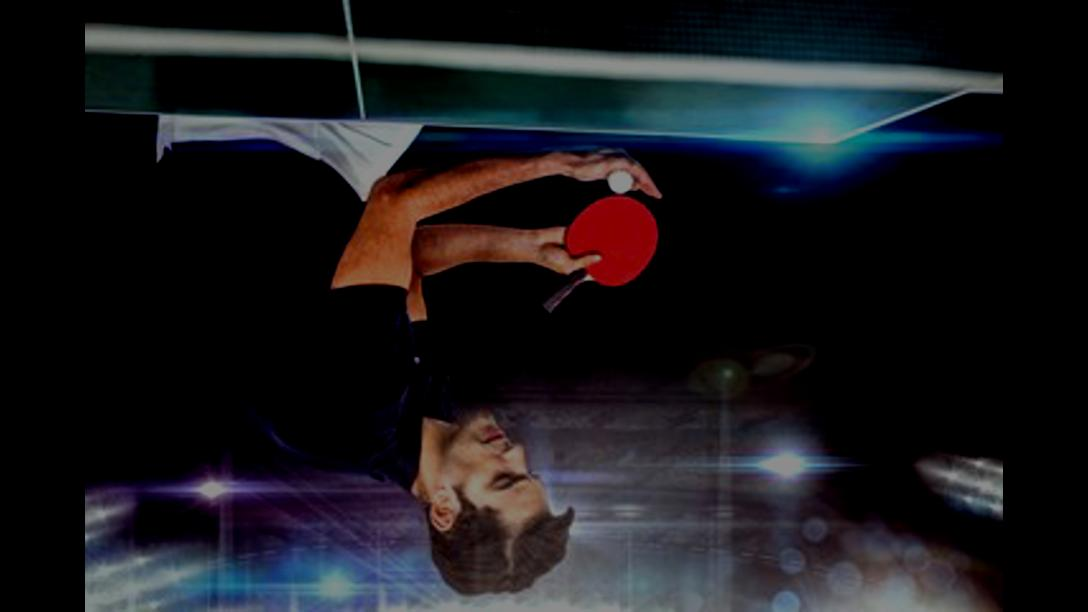Table-Tennis-Ball: (608, 172, 631, 194)
